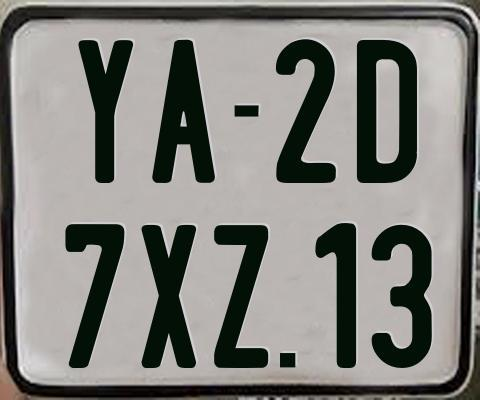1: (312, 220, 358, 369)
2: (273, 37, 335, 185)
3: (371, 225, 435, 371)
7: (65, 223, 126, 371)
A: (150, 40, 213, 186)
D: (357, 40, 418, 186)
X: (141, 225, 200, 370)
Y: (77, 37, 133, 185)
Z: (212, 223, 266, 372)
